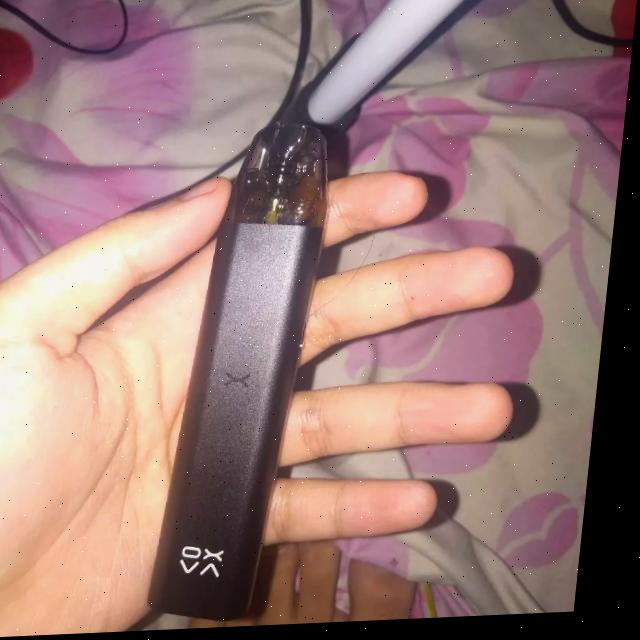vape: (153, 122, 341, 623)
